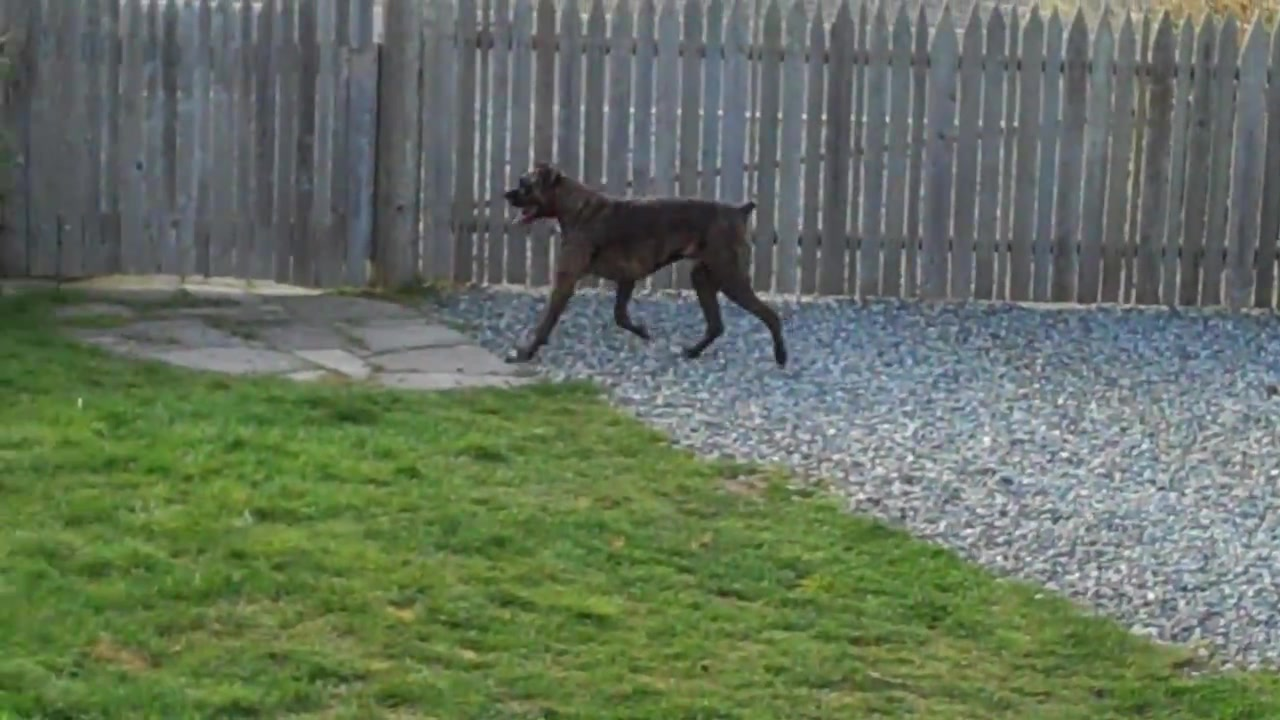dog: (504, 161, 791, 368)
